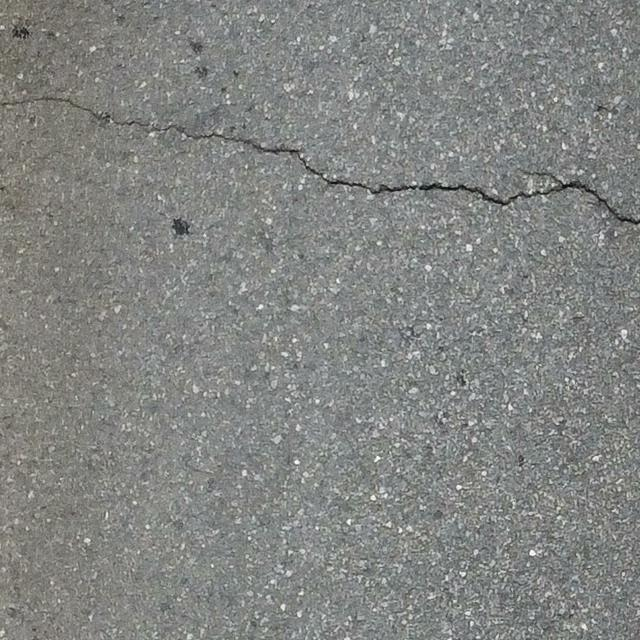TransverseCrack: (1, 93, 638, 223)
